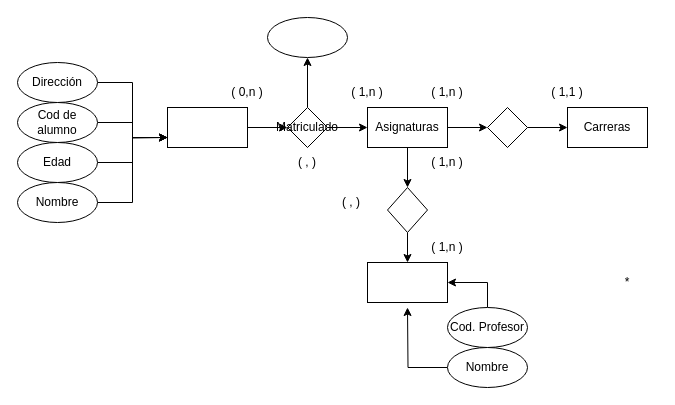
This 675x405 diagram has some shape labels left out. The shapes that lost their labels are listed below. From the top down, each one's box as (x1, y1, x2, y2) in pixels, then its label:
(266, 16, 348, 58): Calificaciones
(166, 106, 248, 148): Alumnos
(486, 106, 528, 148): Pertenecen
(386, 186, 428, 232): Impartir
(366, 262, 448, 302): Profesores
